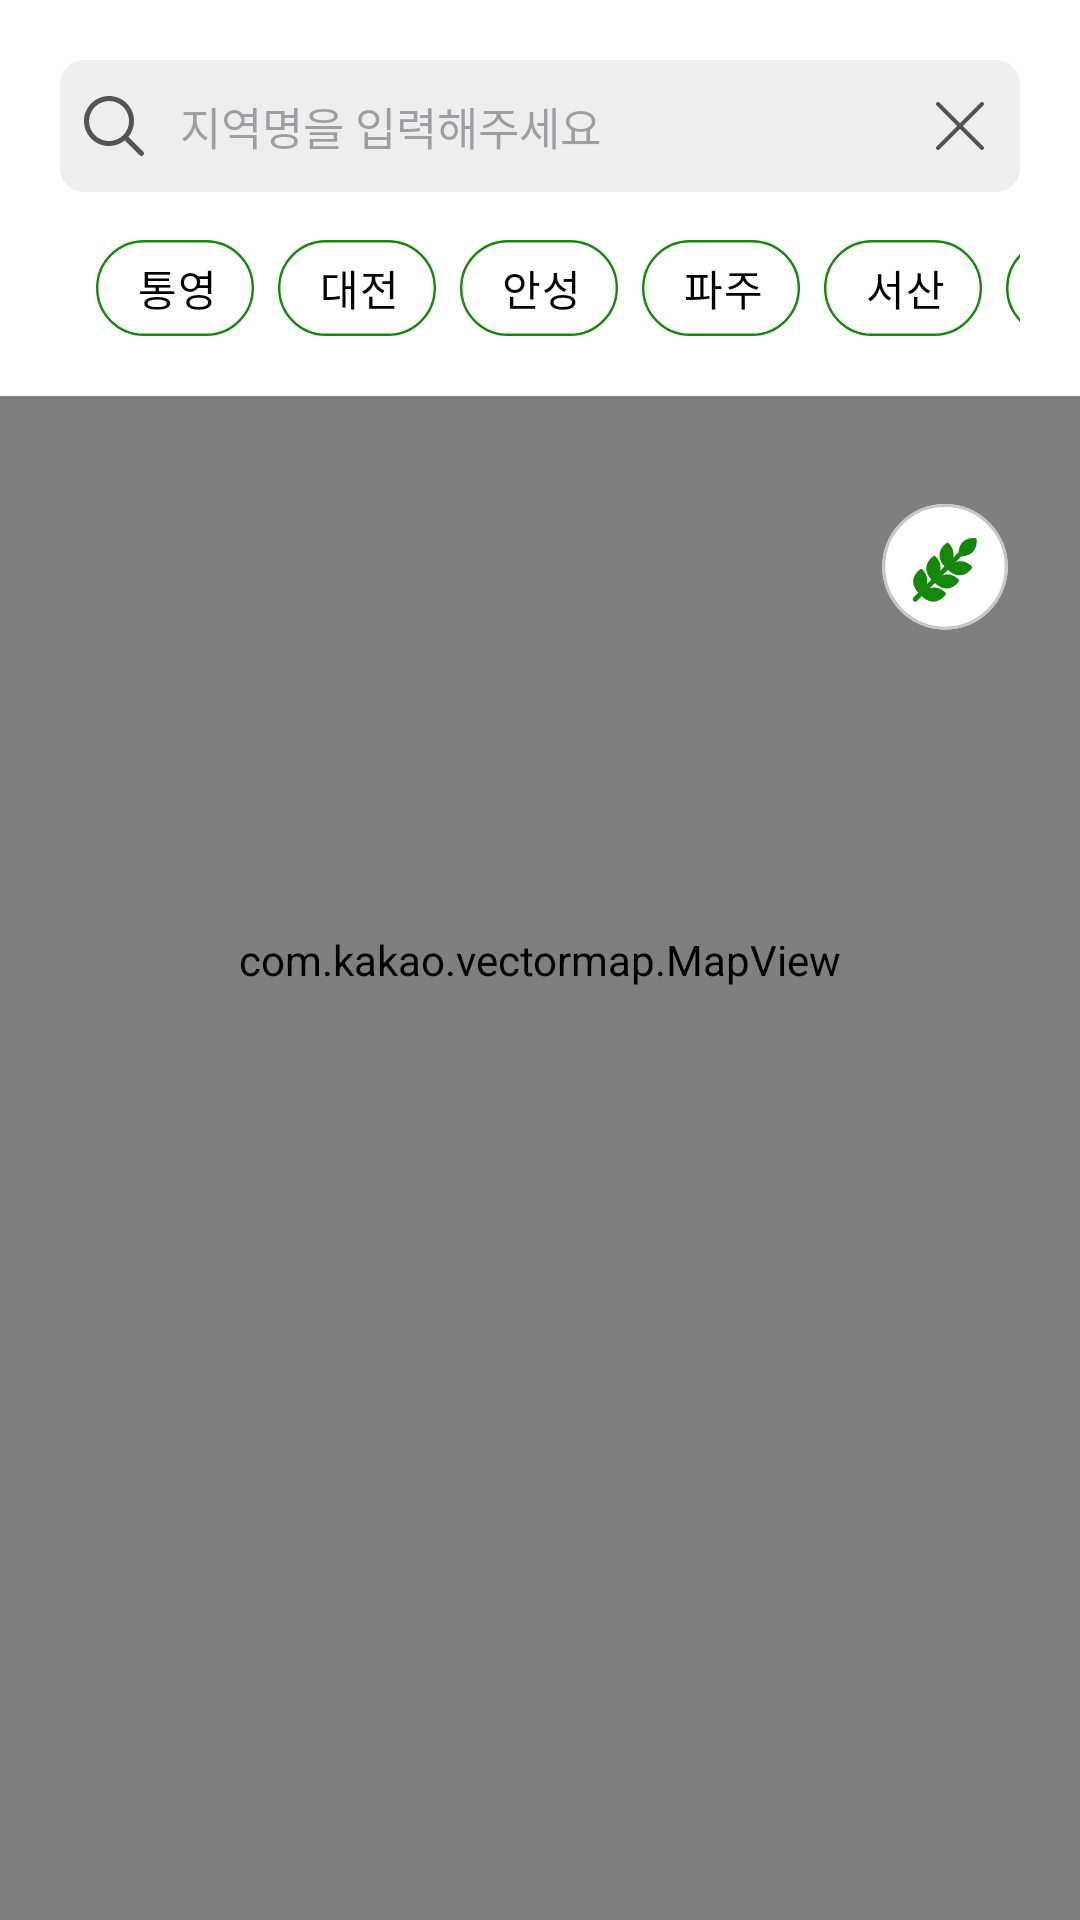

Screen size 1080w x 1920h. Icon name, then its box in pixels as (x1, y1, x2, y2):
delete: (936, 102, 984, 150)
